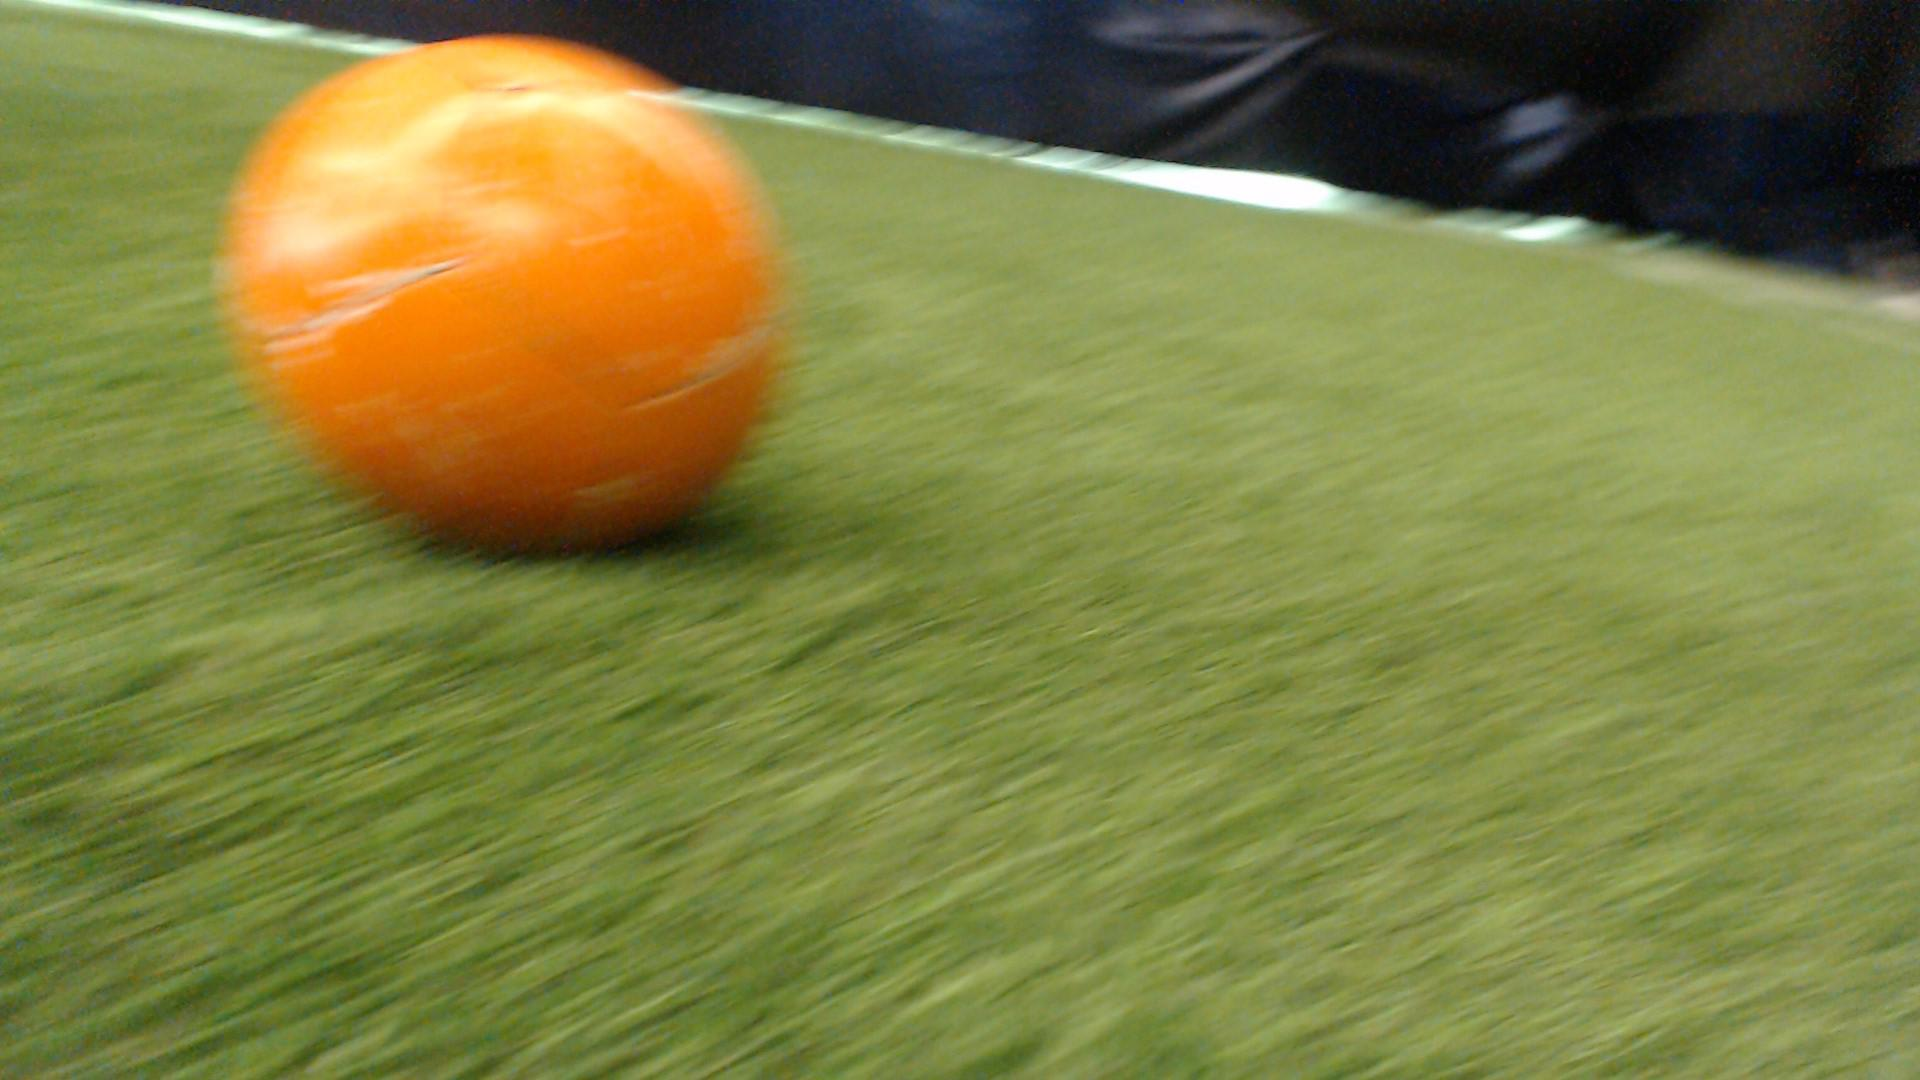bola: (198, 18, 812, 579)
